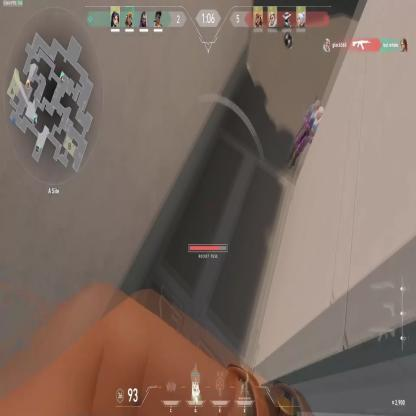enemy: (287, 98, 326, 174)
enemy_head: (314, 105, 324, 120)
